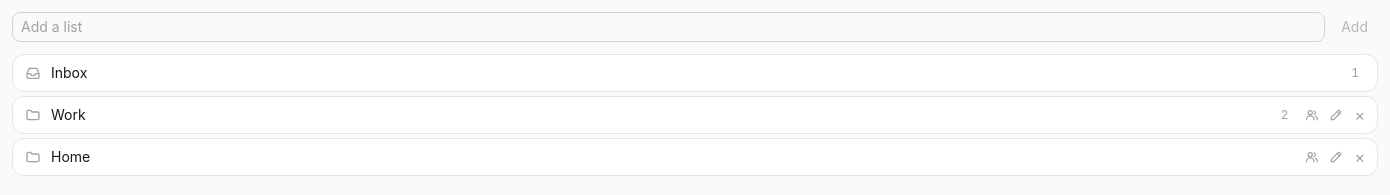
Scenario: renaming a list › turns the name into a box with the caret in it (LST-6)
What coordinates should you click on to do the following:
click the button named "Rename the list \"Work\""
I would click on:
 (1336, 115)
Its box is [1324,103,1348,127].
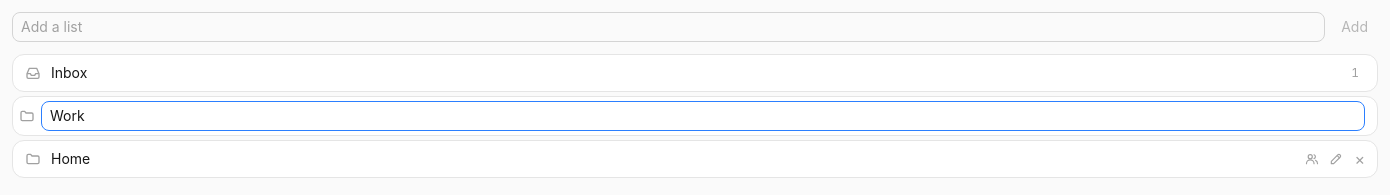
Result: the field named "Name of the list \"Work\"" holds "Work" at [41,101,1365,131]
